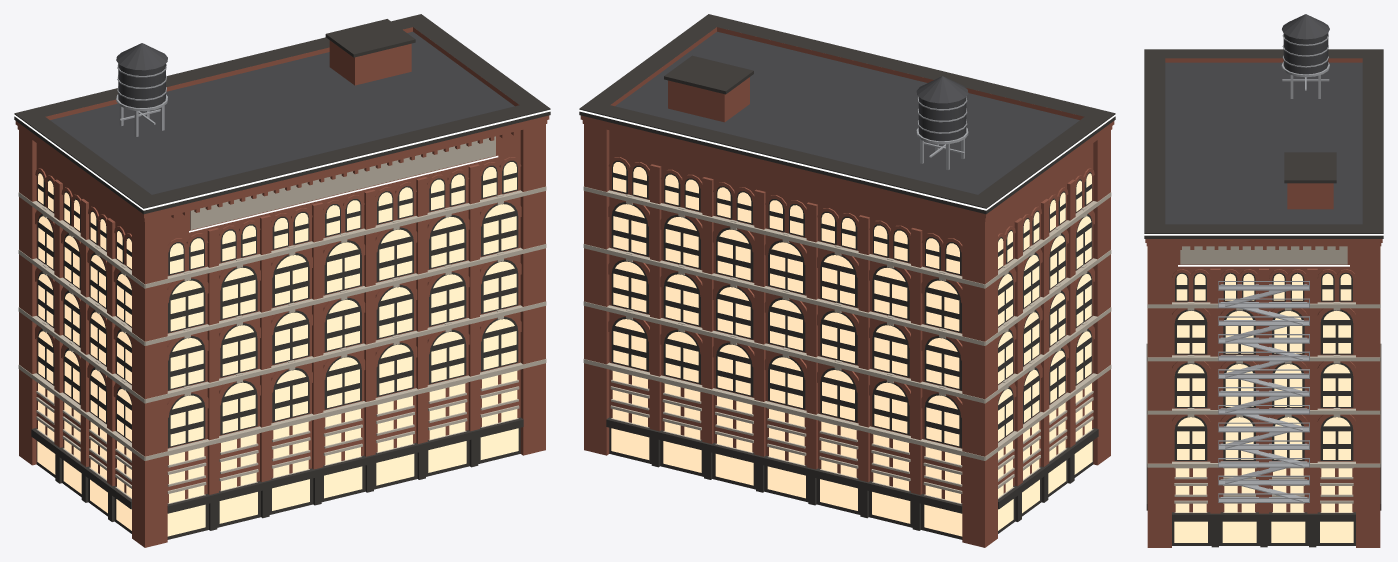
Rendered from warehouse-loft.glb.
The picture shows the model from 3 angles, left to right: view 1: azimuth 30°, elevation 25°; view 2: azimuth 150°, elevation 25°; view 3: azimuth 270°, elevation 25°; orthographic projection. The views are drawn at different scales.
Parts seen in each view (by area): view 1: Body_Brick, Body_Trim, Windows, Body_Roof, Body_Limestone, Crown, Body_Metal; view 2: Body_Brick, Body_Trim, Windows, Body_Roof, Body_Limestone, Crown, Body_Metal; view 3: Body_Brick, Body_Roof, Body_Trim, Windows, Body_Metal, Body_Limestone, Crown.
Boxes of the visible parts, left/top/right/bottom form: Body_Brick: left=15, top=27, right=549, bottom=547; Body_Trim: left=14, top=14, right=550, bottom=539; Windows: left=37, top=162, right=518, bottom=536; Body_Roof: left=50, top=31, right=514, bottom=194; Body_Limestone: left=18, top=136, right=546, bottom=503; Crown: left=14, top=109, right=550, bottom=232; Body_Metal: left=116, top=63, right=167, bottom=136; Body_Brick: left=580, top=27, right=1114, bottom=547; Body_Trim: left=579, top=14, right=1115, bottom=539; Windows: left=611, top=162, right=1092, bottom=536; Body_Roof: left=615, top=31, right=1079, bottom=194; Body_Limestone: left=583, top=186, right=1111, bottom=503; Crown: left=579, top=109, right=1115, bottom=210; Body_Metal: left=916, top=96, right=968, bottom=170; Body_Brick: left=1145, top=58, right=1382, bottom=547; Body_Roof: left=1165, top=14, right=1362, bottom=224; Body_Trim: left=1144, top=49, right=1383, bottom=547; Windows: left=1174, top=273, right=1353, bottom=542; Body_Metal: left=1218, top=34, right=1329, bottom=502; Body_Limestone: left=1147, top=246, right=1380, bottom=512; Crown: left=1144, top=234, right=1383, bottom=266.
Size of the model in its own units: 9.43 by 9.26 by 5.14.
